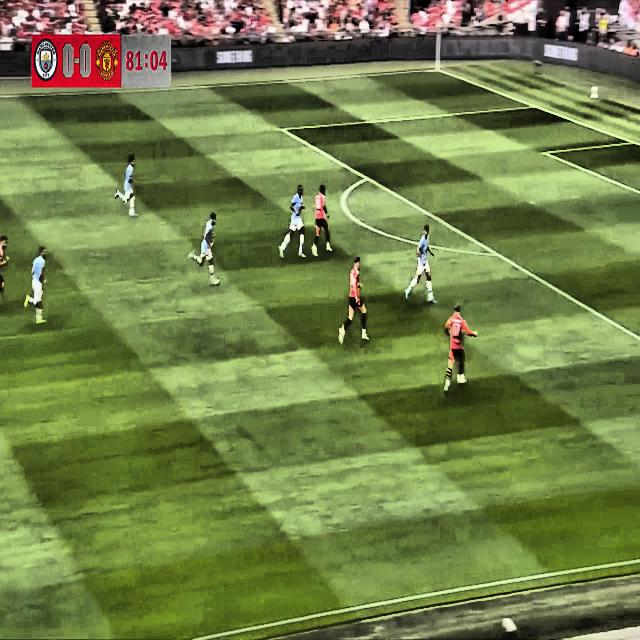ball: (454, 370, 466, 390)
players: (440, 296, 476, 398), (404, 218, 439, 308), (336, 256, 369, 350), (278, 172, 311, 265), (19, 241, 52, 329), (185, 209, 222, 287), (115, 152, 142, 226), (311, 182, 335, 265), (0, 226, 12, 313)
